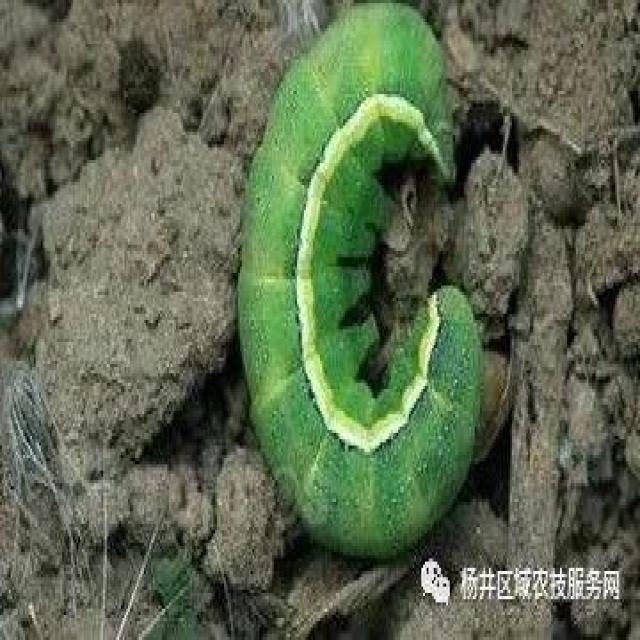BeetArmyWorm-Larva-: (232, 2, 483, 564)
